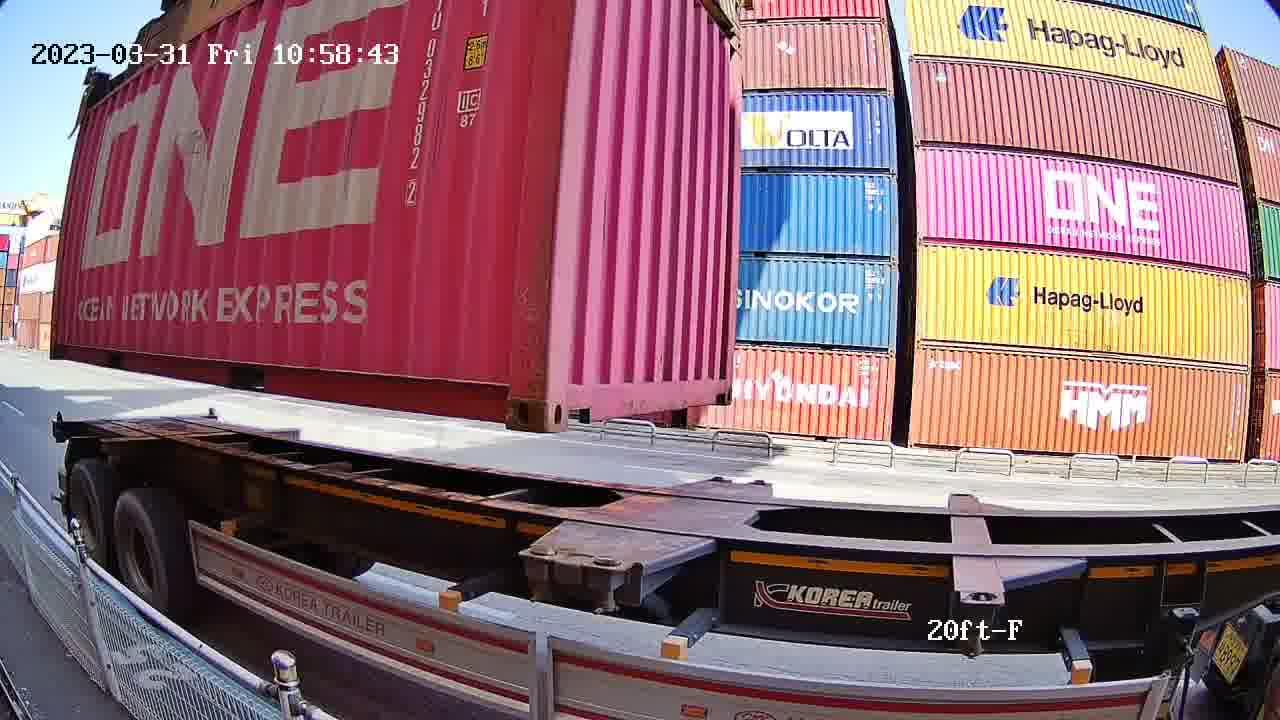Chassis: (522, 477, 731, 559), (582, 480, 770, 569)
Cone: (586, 551, 631, 615), (523, 542, 566, 606)
Hole_L: (545, 370, 600, 436)
Hole_R: (475, 363, 548, 433), (709, 367, 735, 404)
Tire: (112, 496, 176, 623), (67, 467, 109, 567)
